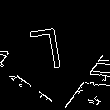L_S: (36, 28, 74, 82)
